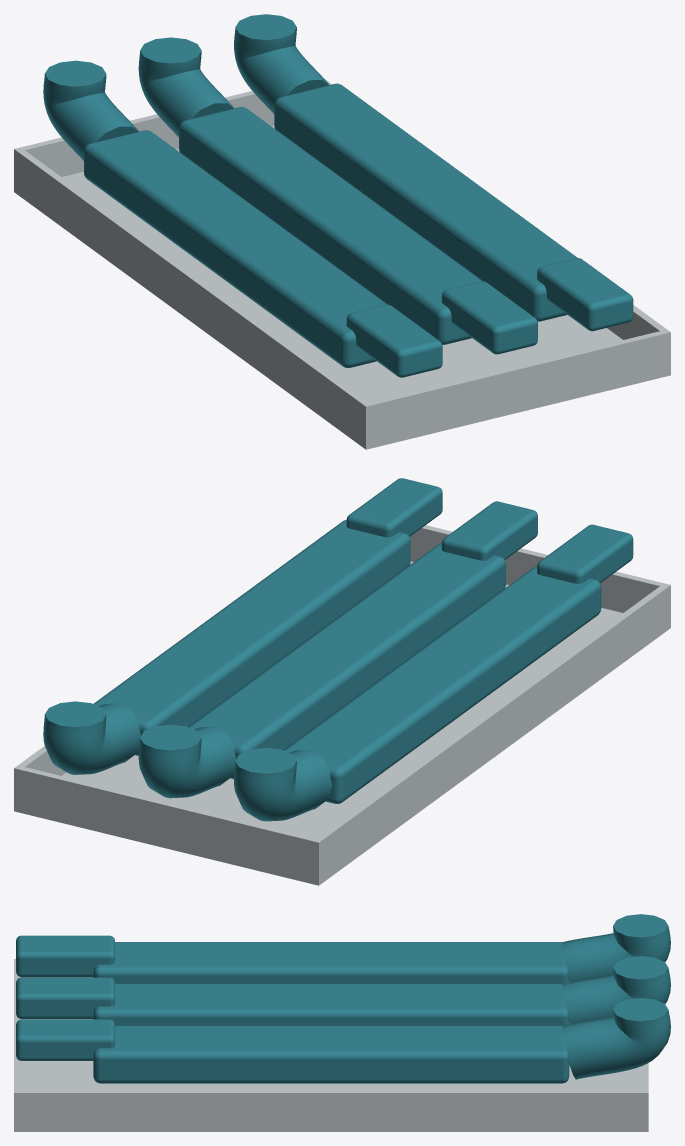
The model's file is bicycle-shop-and-repair-cafe-tyre-lever-set-77ac21e4__32395.glb.
The picture shows the model from 3 angles, top to bottom: view 1: azimuth 30°, elevation 25°; view 2: azimuth 150°, elevation 25°; view 3: azimuth 270°, elevation 25°; orthographic projection. The views are drawn at different scales.
Visible parts, largest first — view 1: tyre-lever-set; view 2: tyre-lever-set; view 3: tyre-lever-set.
Boxes of the visible parts, bbox=[...] form: tyre-lever-set: bbox=[14, 14, 670, 449]; tyre-lever-set: bbox=[14, 478, 670, 885]; tyre-lever-set: bbox=[14, 914, 670, 1131].
Size of the model in its own units: 0.08 by 0.027 by 0.1656.
